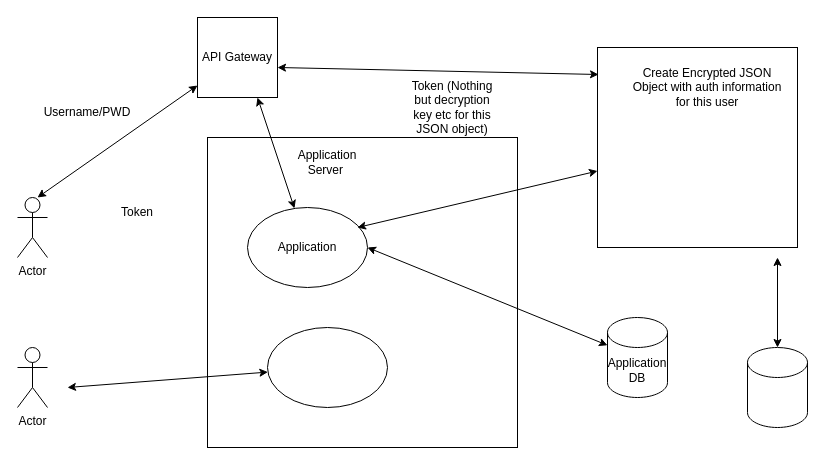
Image size: 825x465. Some labels were removed from this diagram. Each missing label, with the box of its shape:
Application 2: (266, 326, 388, 408)
Auth DB: (746, 346, 808, 428)
Authorization server: (596, 46, 798, 248)
